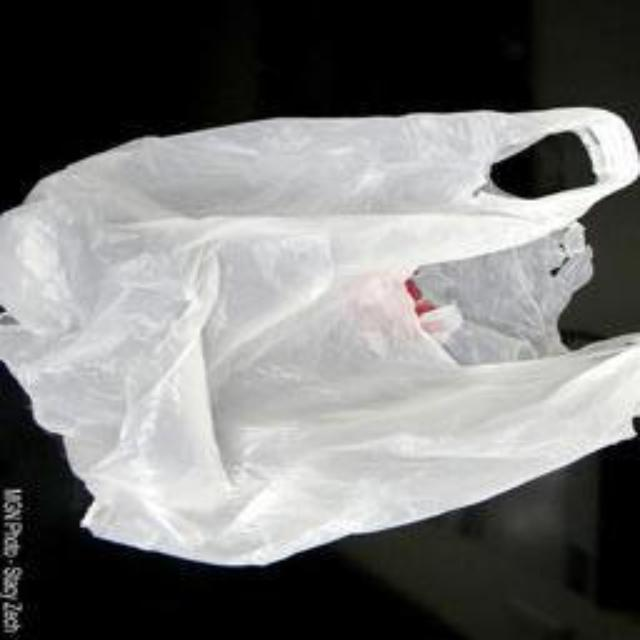Bolsa-de-plastico: (0, 107, 640, 573)
